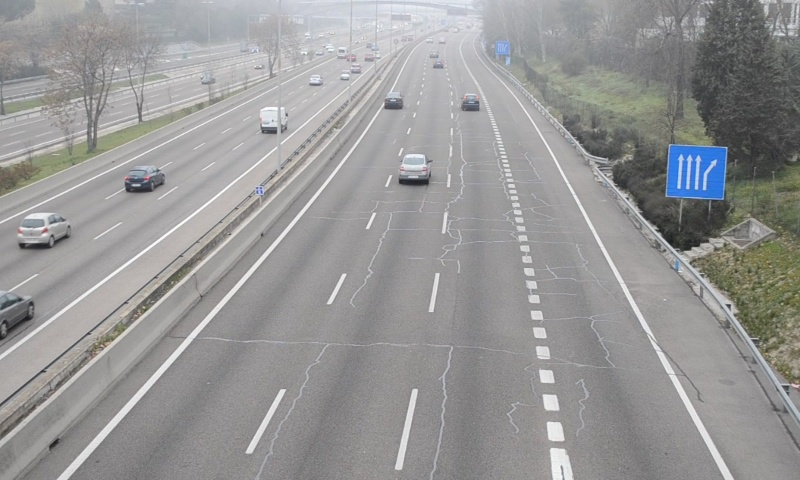car: (400, 154, 429, 182), (461, 93, 480, 112), (384, 92, 402, 110)
